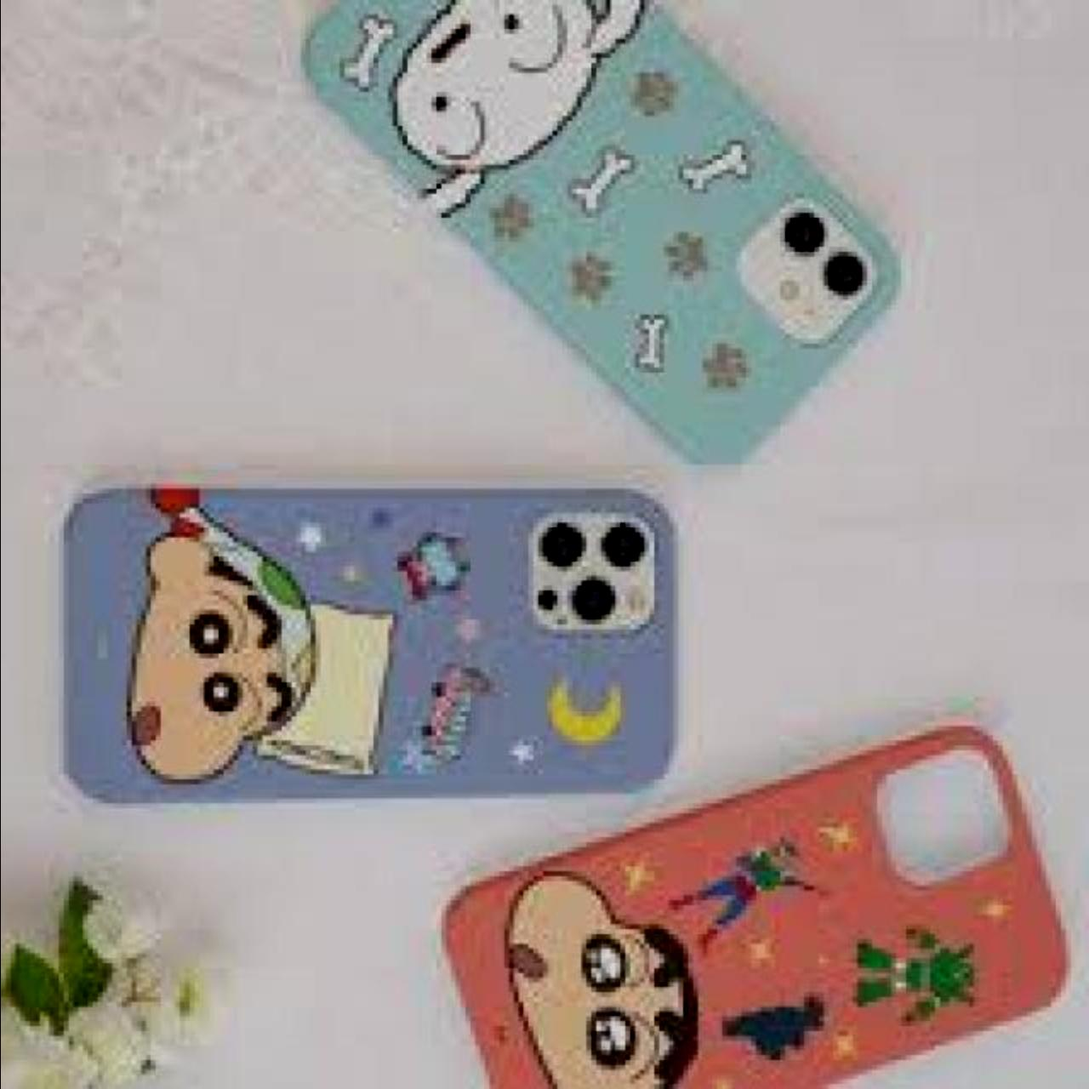phone: (299, 0, 902, 470), (442, 738, 1069, 1089), (55, 486, 690, 811)
